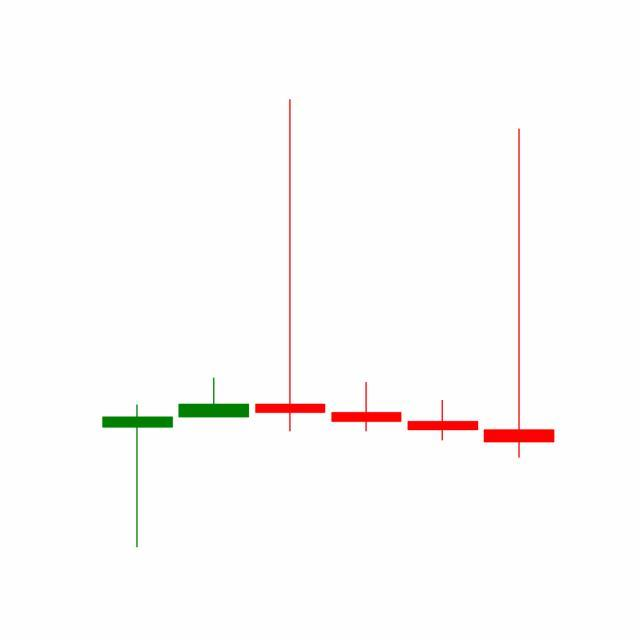Gravestone Doji: (404, 400, 482, 442)
